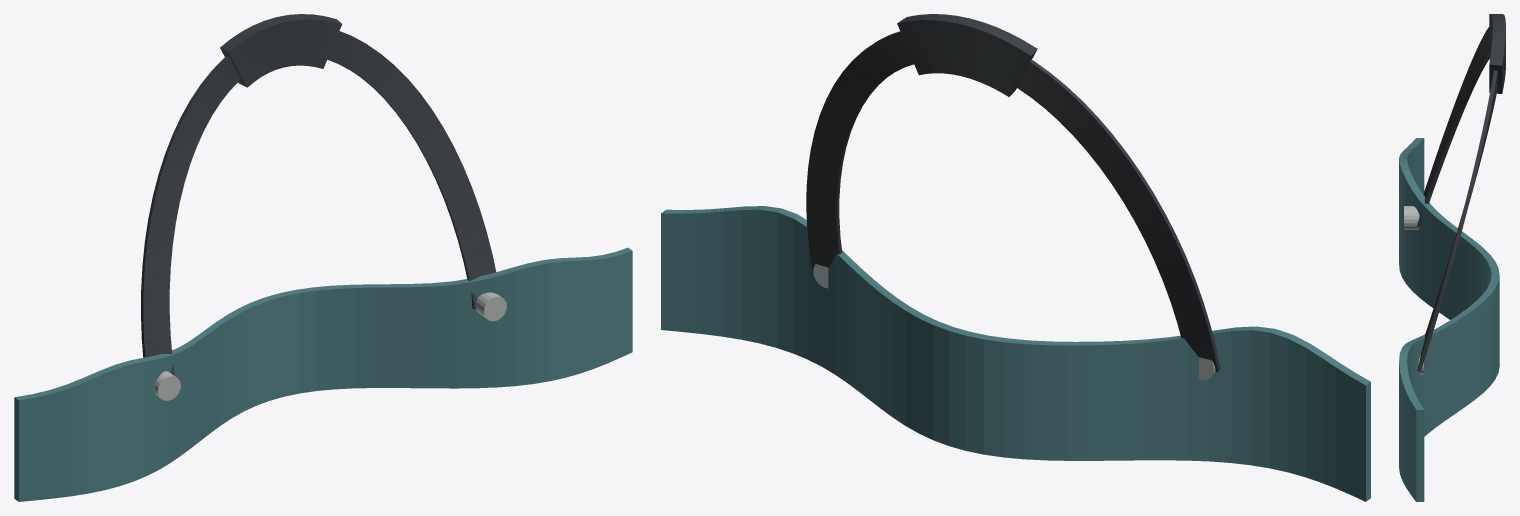
3 views of the same model, side by side, from view 1: azimuth 30°, elevation 25°; view 2: azimuth 150°, elevation 25°; view 3: azimuth 270°, elevation 25° (orthographic). The views are drawn at different scales.
Parts seen in each view (by area): view 1: WholeContinuousBowedPlateAndReverseWings, WholeContinuousArchedNeckStrap, WholeCurvedNeckPadSleeve, WholeRightProudConnectorStud; view 2: WholeContinuousBowedPlateAndReverseWings, WholeContinuousArchedNeckStrap, WholeCurvedNeckPadSleeve; view 3: WholeContinuousBowedPlateAndReverseWings, WholeContinuousArchedNeckStrap, WholeCurvedNeckPadSleeve, WholeLeftProudConnectorStud.
Boxes of the visible parts, x1,y1,x2,y2 form: WholeContinuousBowedPlateAndReverseWings: [14, 247, 632, 501]; WholeContinuousArchedNeckStrap: [141, 31, 496, 375]; WholeCurvedNeckPadSleeve: [220, 14, 342, 87]; WholeRightProudConnectorStud: [476, 292, 506, 321]; WholeContinuousBowedPlateAndReverseWings: [661, 206, 1370, 501]; WholeContinuousArchedNeckStrap: [806, 31, 1220, 372]; WholeCurvedNeckPadSleeve: [897, 14, 1037, 97]; WholeContinuousBowedPlateAndReverseWings: [1399, 138, 1499, 501]; WholeContinuousArchedNeckStrap: [1417, 27, 1497, 371]; WholeCurvedNeckPadSleeve: [1489, 14, 1505, 93]; WholeLeftProudConnectorStud: [1404, 206, 1419, 229].
Bounding box in the file's own units: 0.64 × 0.3725 × 0.1063.
